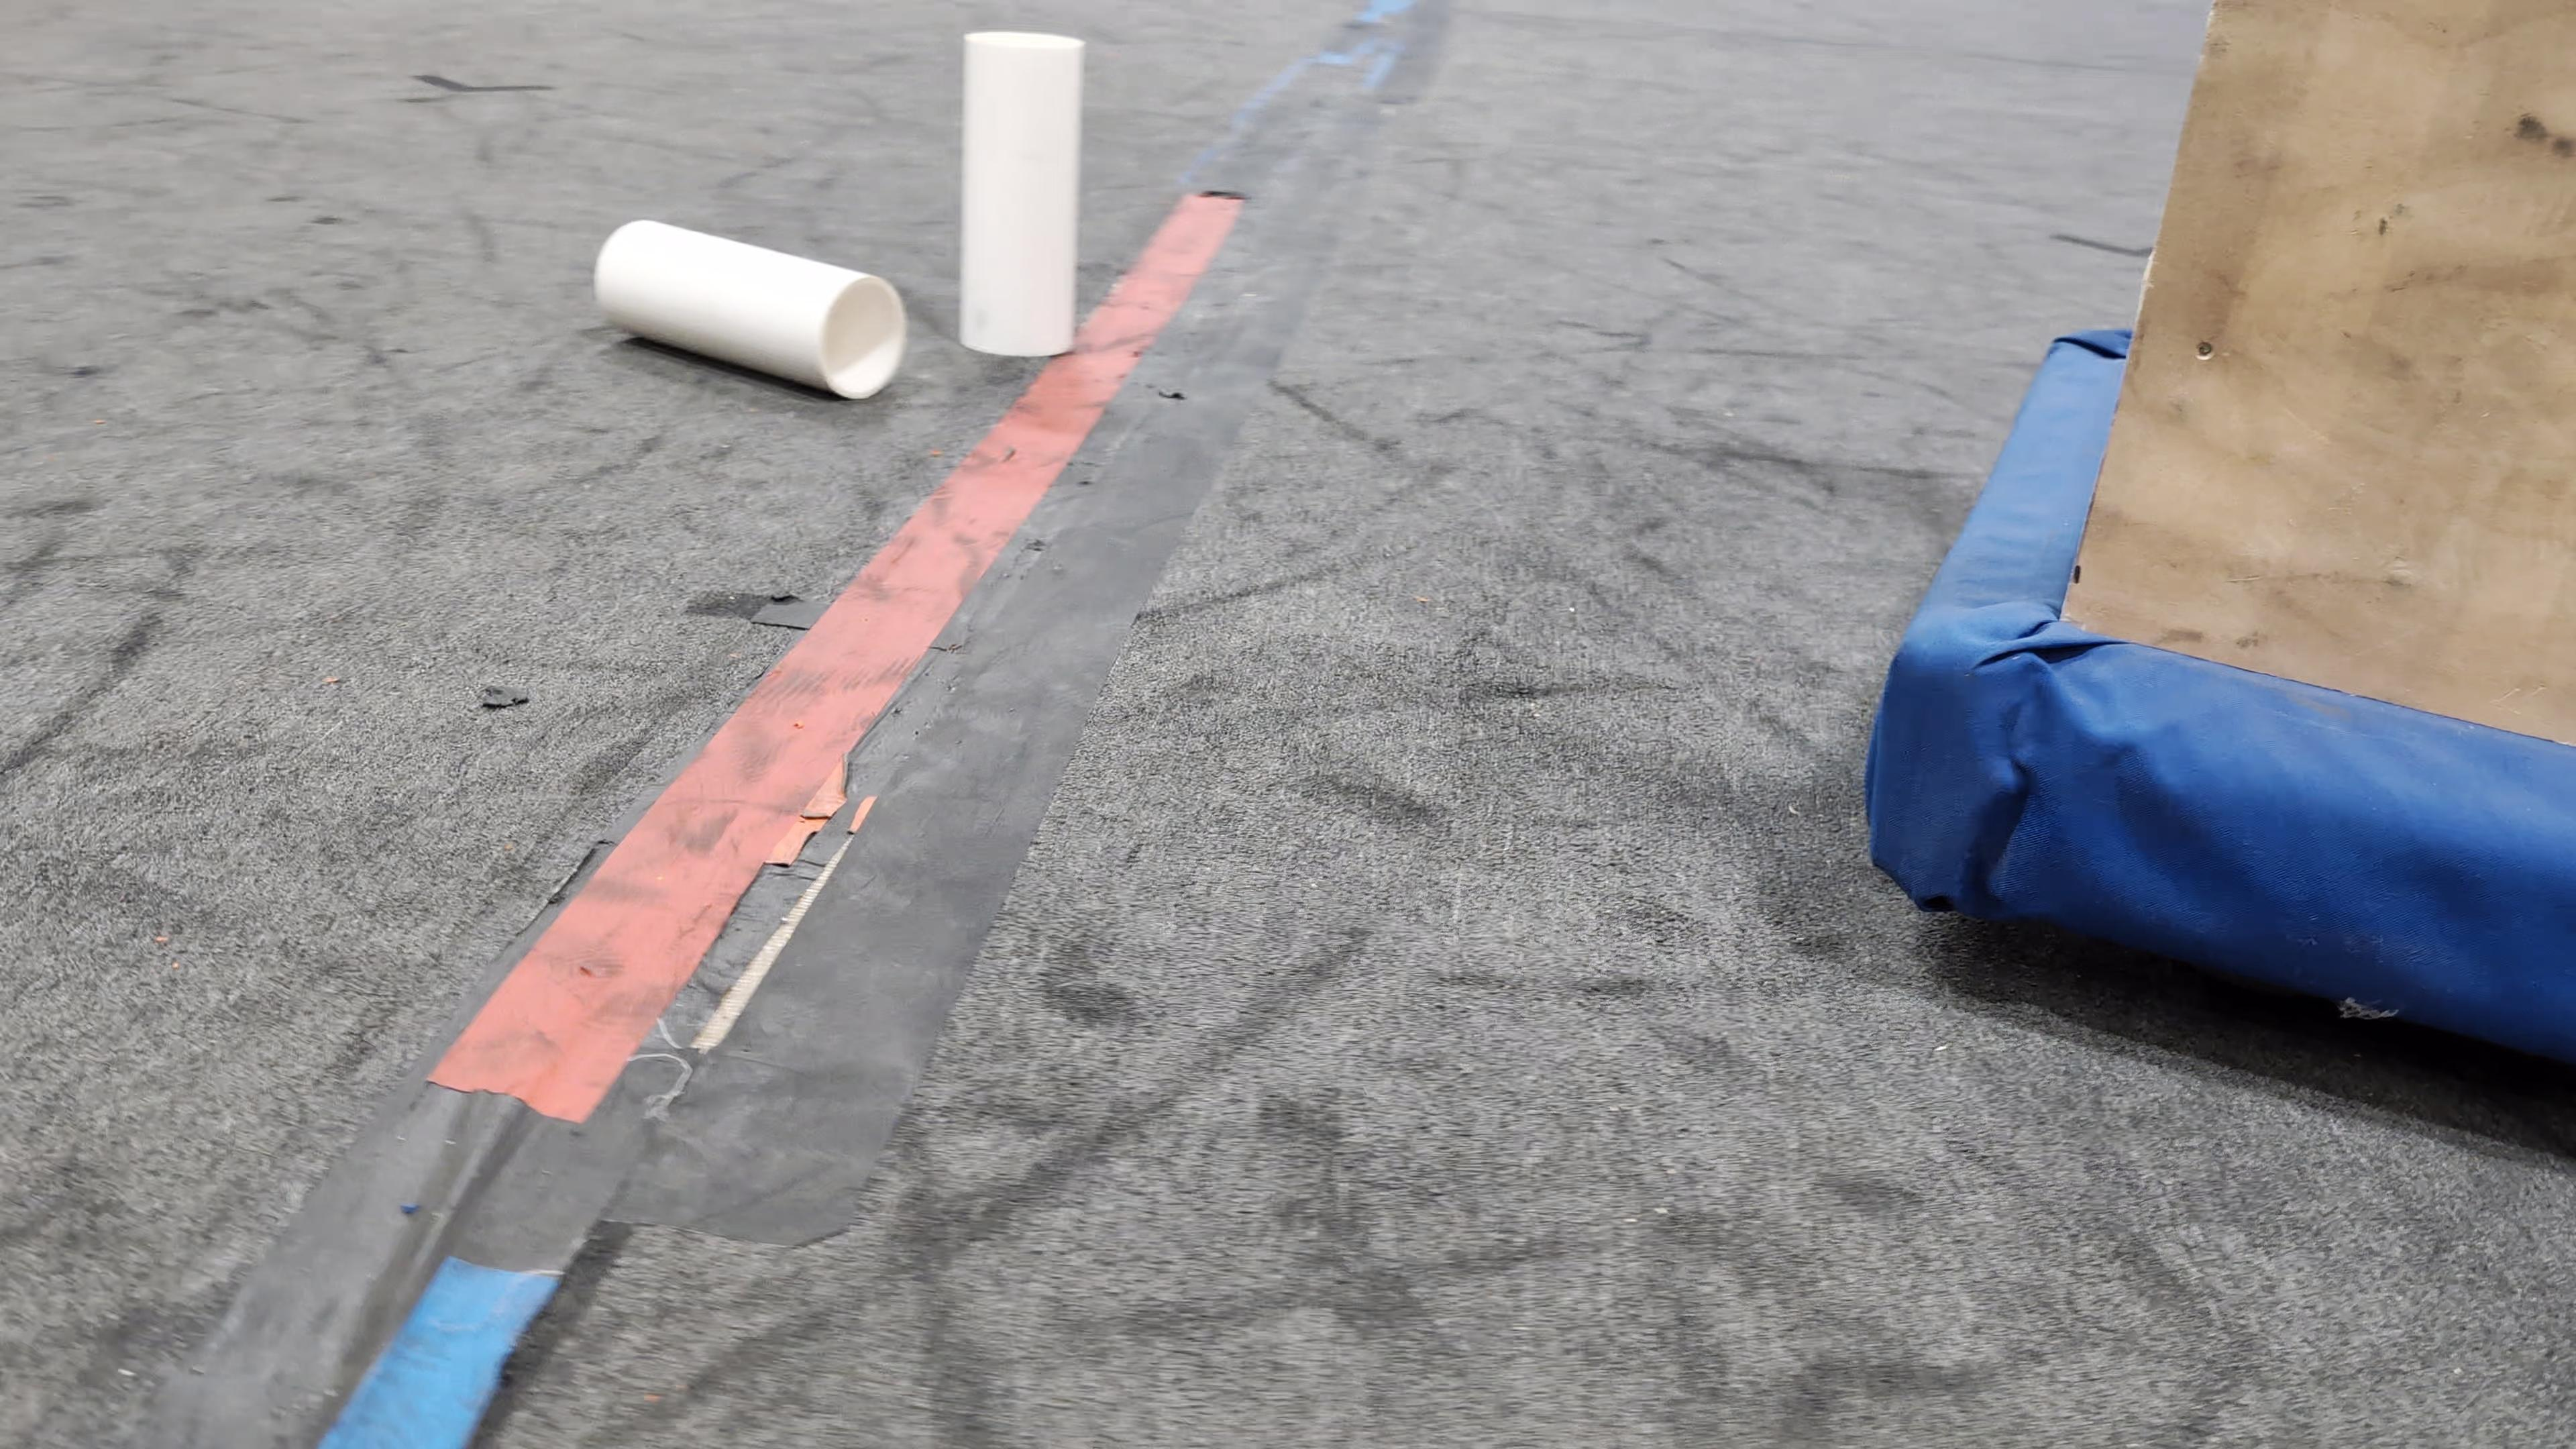coral: (594, 218, 911, 402), (954, 25, 1090, 359)
